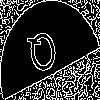Q: (25, 25, 62, 85)
